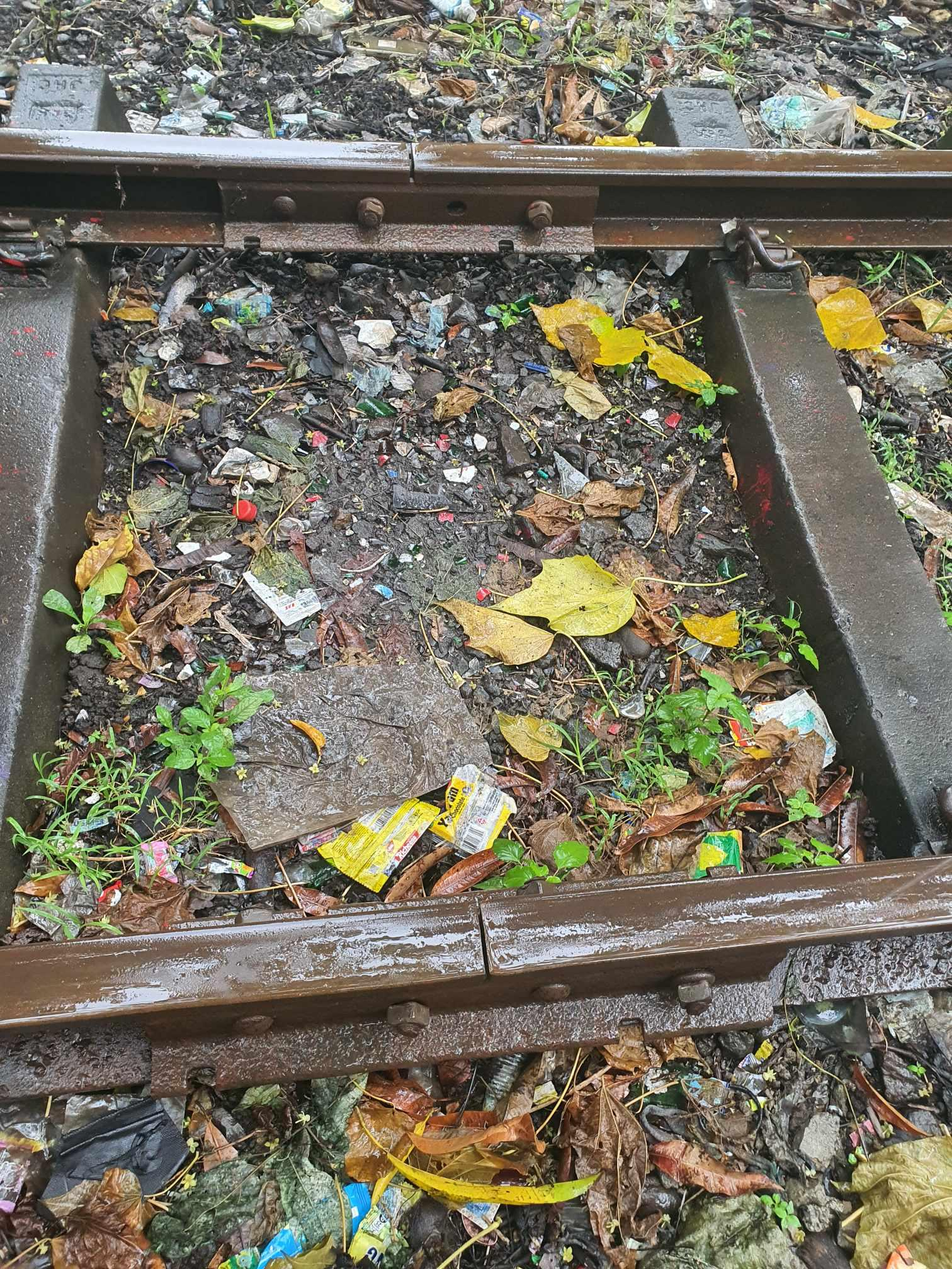railway-gap: (405, 865, 565, 1018), (348, 106, 479, 215)
